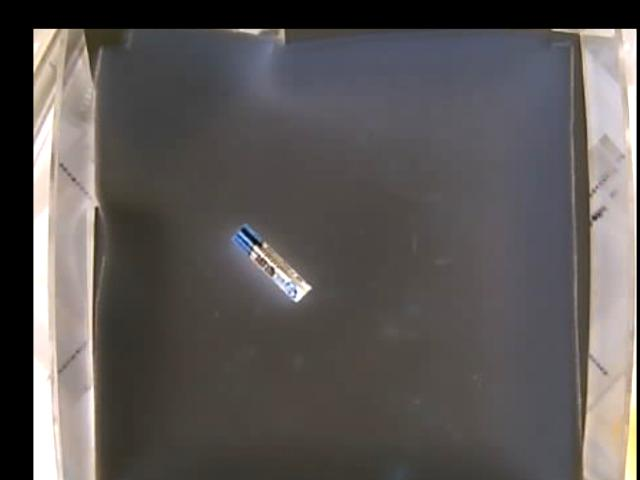Battery: (233, 224, 317, 301)
